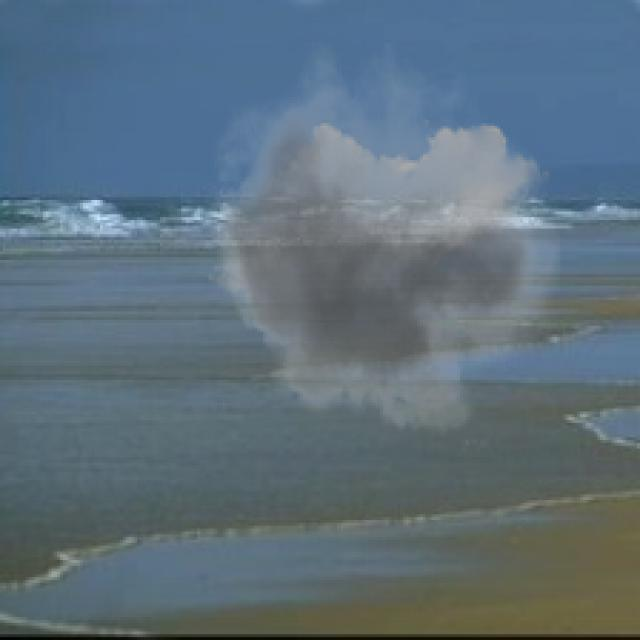Smoke: (194, 39, 563, 452)
